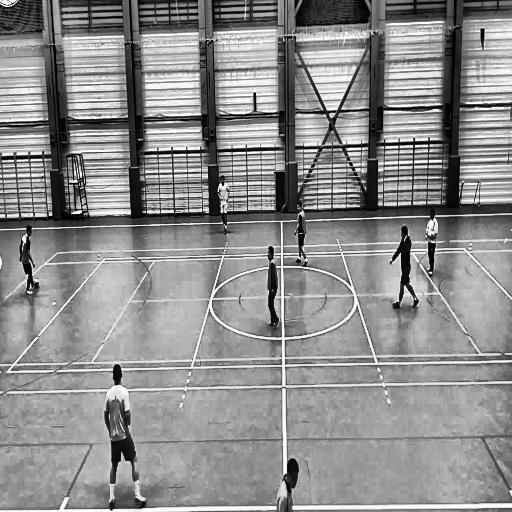ball: (33, 278, 40, 291)
player: (104, 363, 147, 511), (388, 225, 419, 311), (264, 244, 281, 334), (276, 457, 301, 512), (292, 198, 309, 270), (424, 206, 439, 280), (19, 224, 33, 299), (217, 170, 230, 238)
